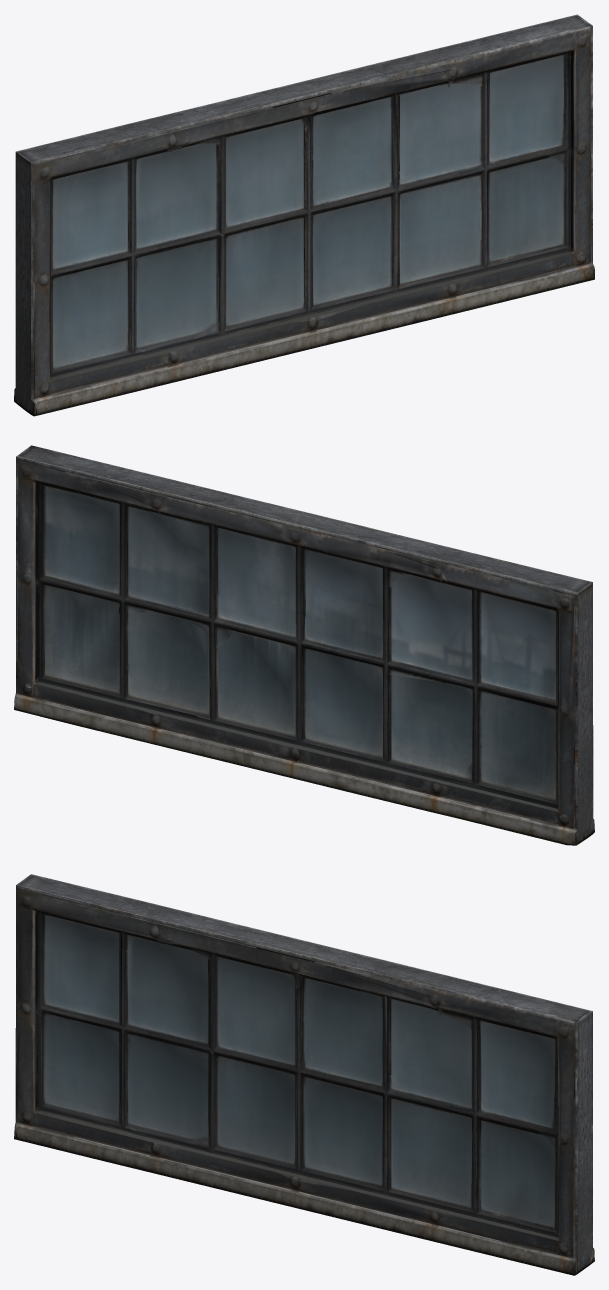
Rendered from window.glb.
The picture shows the model from 3 angles, top to bottom: view 1: azimuth 30°, elevation 25°; view 2: azimuth 150°, elevation 25°; view 3: azimuth 330°, elevation 25°; orthographic projection.
Visible parts, largest first — view 1: window-detail; view 2: window-detail; view 3: window-detail.
Boxes of the visible parts, x1,y1,x2,y2 form: window-detail: (14, 14, 594, 416); window-detail: (14, 445, 594, 845); window-detail: (14, 874, 594, 1275).
Size of the model in its own units: 2.8 by 1.2 by 0.18.
1 material, 1 textured.
